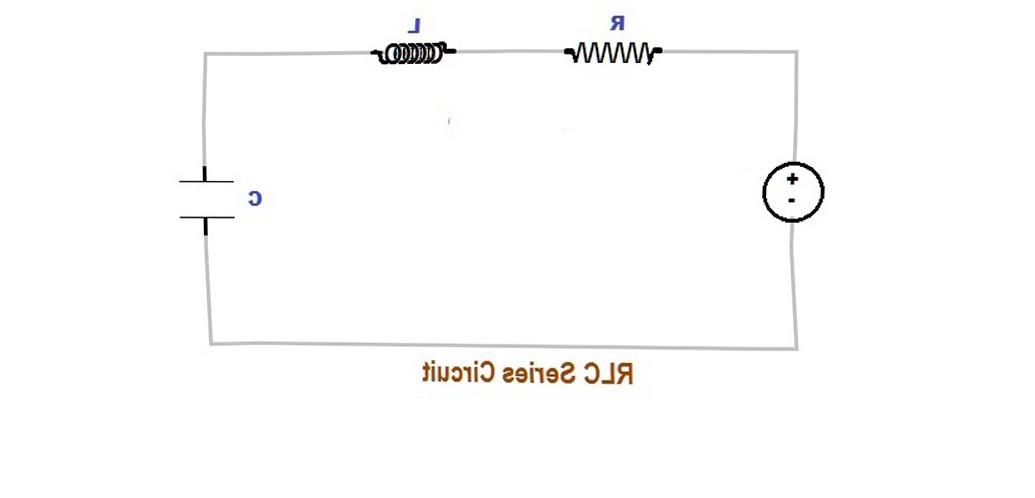Battery: (729, 141, 857, 249)
